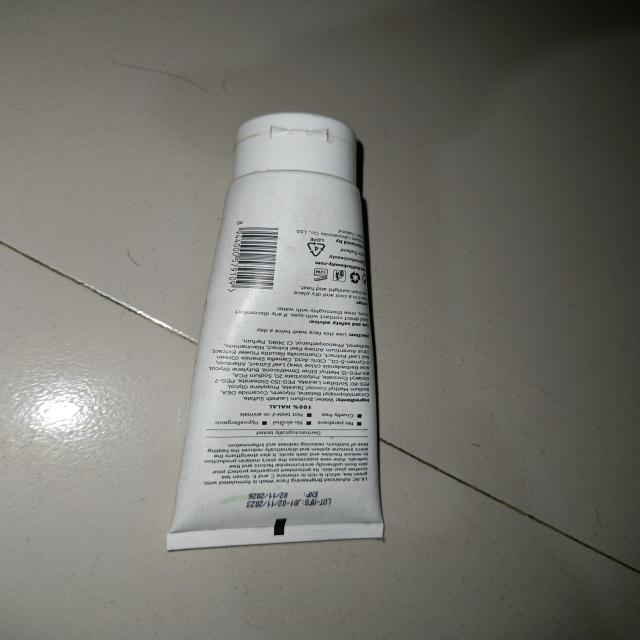Squeeze Tube: (162, 95, 396, 580)
